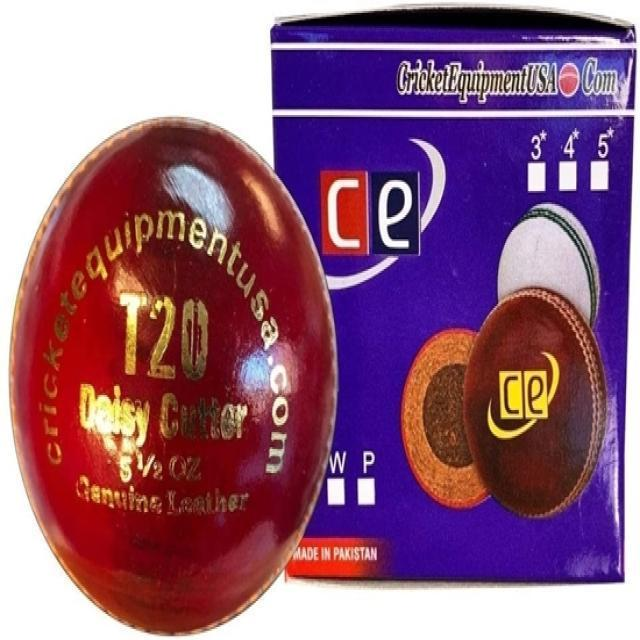cricket ball: (8, 114, 338, 638)
